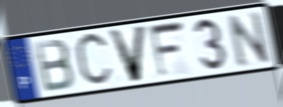3: (193, 16, 229, 75)
B: (32, 37, 77, 95)
C: (73, 29, 115, 91)
F: (147, 18, 187, 81)
N: (224, 9, 273, 70)
V: (106, 24, 150, 85)
